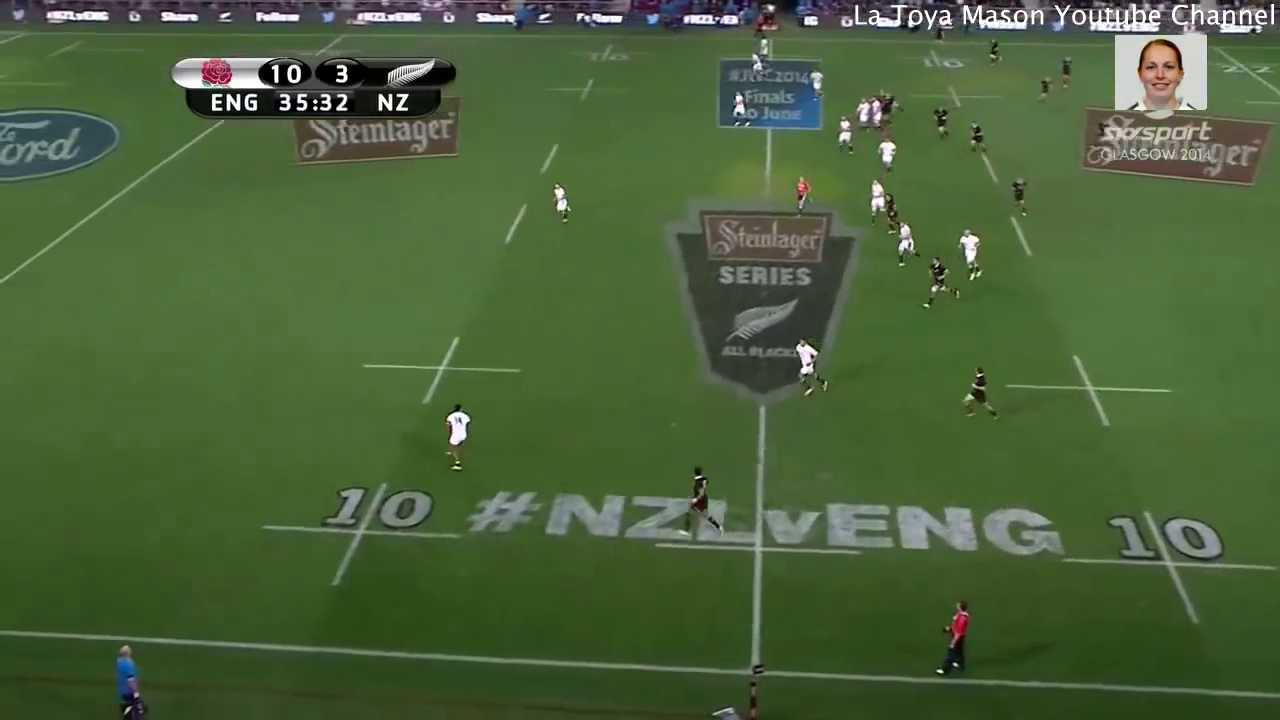10_metre: (1059, 503, 1280, 635), (256, 482, 461, 588), (1006, 353, 1180, 434), (355, 330, 523, 403), (896, 44, 985, 76), (548, 74, 629, 108), (906, 82, 1003, 108), (560, 43, 652, 67)
player: (932, 596, 977, 682), (681, 460, 724, 542), (922, 253, 963, 321), (963, 364, 1005, 427), (440, 397, 471, 480), (793, 339, 831, 405), (958, 225, 987, 281), (545, 182, 579, 224), (1005, 175, 1036, 221), (896, 218, 920, 266), (963, 117, 989, 158), (865, 173, 885, 226), (730, 92, 757, 131), (930, 100, 953, 142), (883, 188, 901, 240), (980, 35, 1005, 72), (834, 111, 855, 154), (881, 92, 901, 137), (876, 135, 897, 176), (866, 92, 884, 132), (1037, 74, 1055, 108), (808, 68, 825, 104), (857, 93, 870, 135), (747, 52, 766, 80), (1061, 52, 1073, 89), (756, 33, 769, 63)
